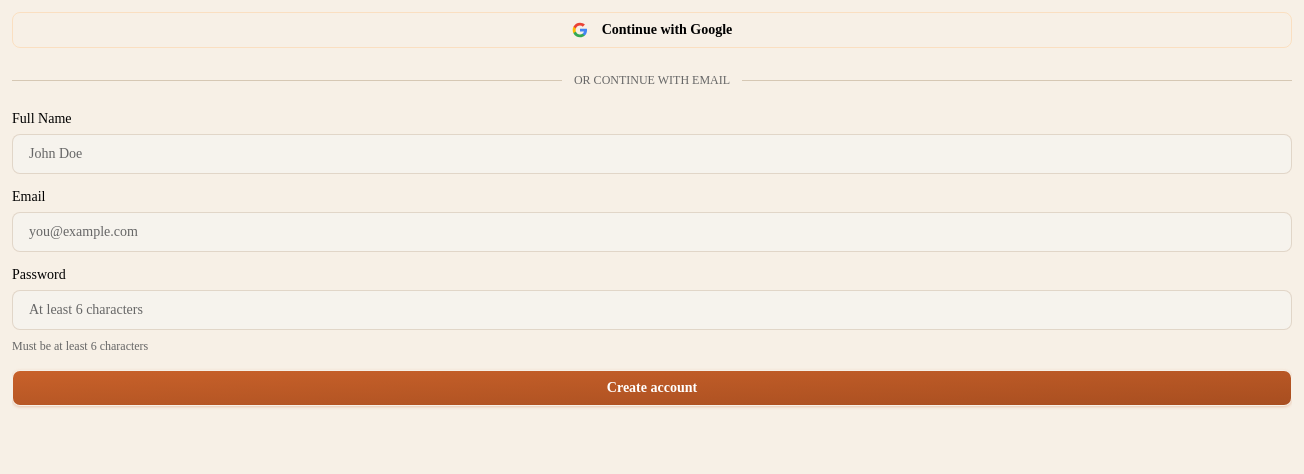
SignupForm › shows error when name is empty
Click the button "Create account" at (652,388), box [12, 370, 1292, 406]
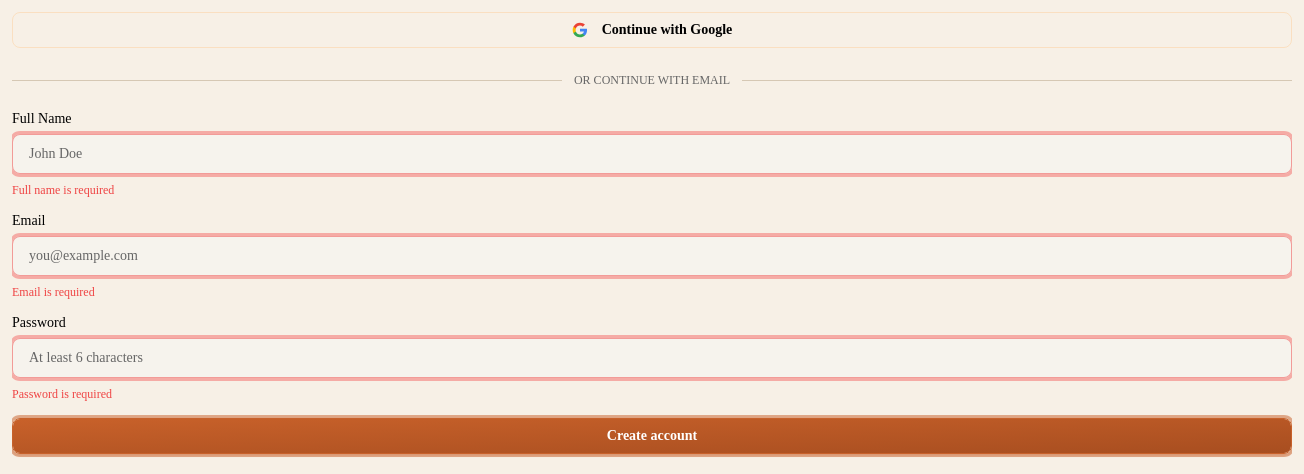
Check: the text "Full name is required" is shown, box [12, 183, 114, 197]
